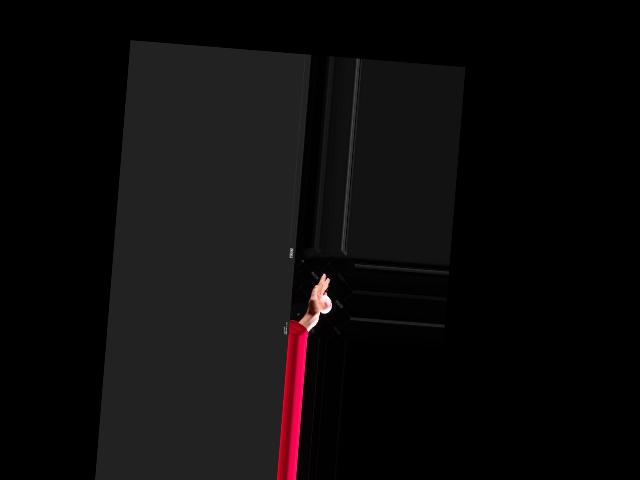egg: (318, 295, 332, 314)
